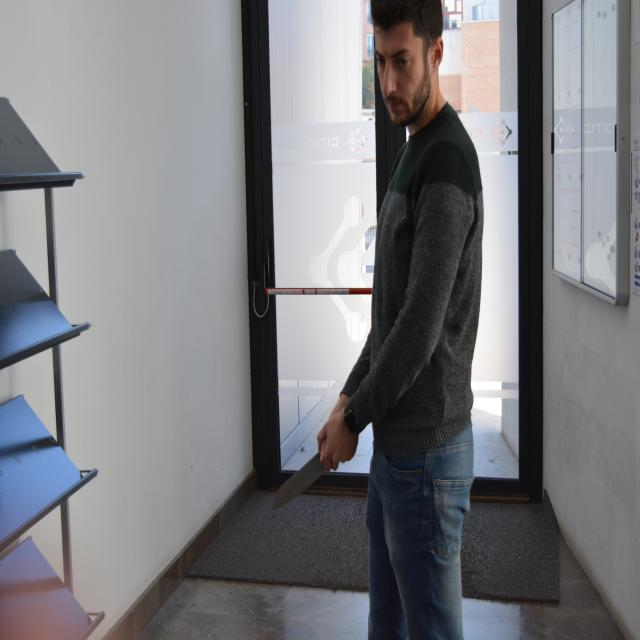knife: (271, 450, 326, 522)
